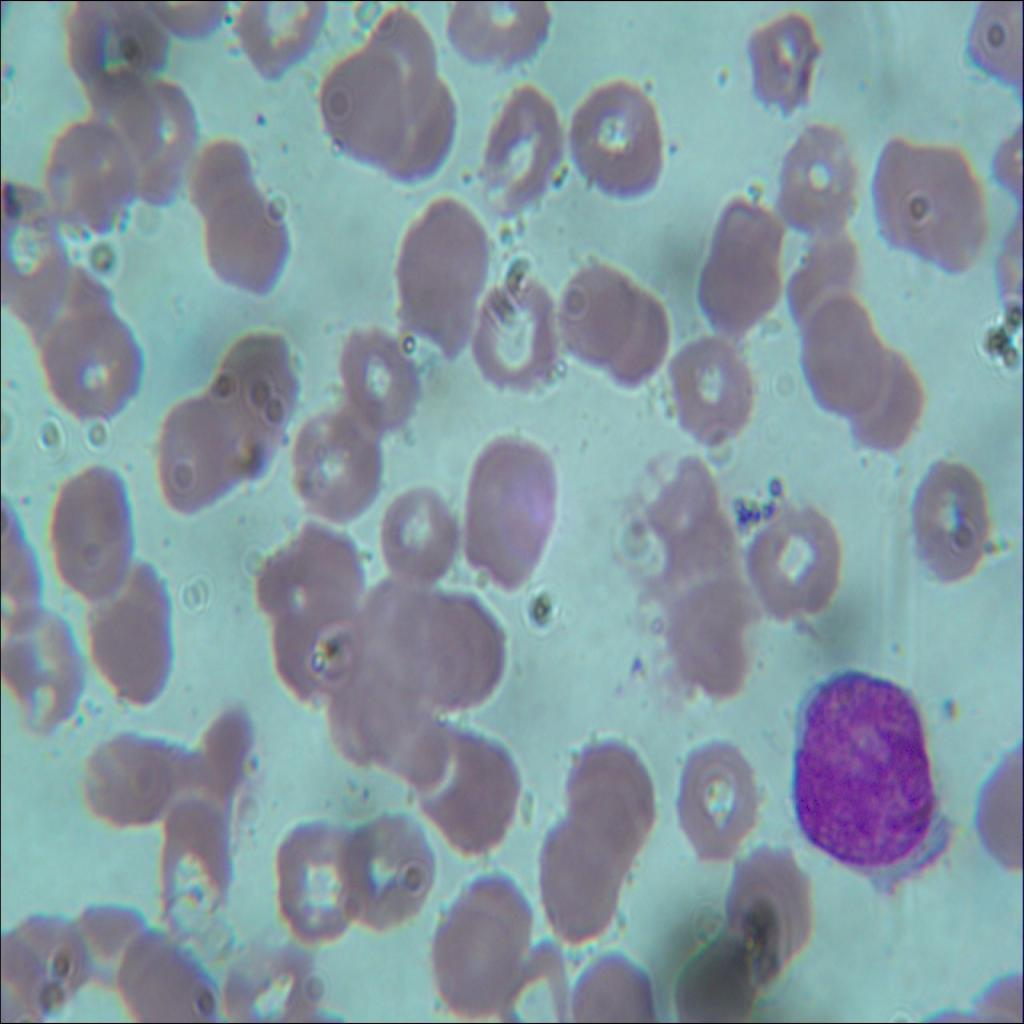Eritrosit: (446, 428, 556, 592), (868, 135, 986, 272), (82, 61, 198, 197), (432, 865, 530, 1023), (394, 194, 490, 340), (475, 75, 569, 224), (746, 494, 846, 627), (261, 592, 373, 707), (406, 588, 510, 710), (695, 195, 784, 332), (0, 600, 89, 735), (154, 398, 246, 528), (646, 458, 738, 586), (538, 811, 624, 947), (38, 314, 144, 424), (272, 815, 366, 939), (423, 729, 518, 851), (571, 79, 666, 200), (91, 567, 175, 702), (84, 724, 186, 835), (53, 465, 133, 605), (344, 805, 433, 930), (259, 527, 366, 628), (318, 51, 409, 169), (662, 577, 756, 690), (682, 722, 759, 859), (732, 838, 814, 966), (300, 405, 386, 527), (476, 268, 561, 391), (44, 121, 133, 238), (68, 0, 171, 101), (334, 319, 423, 435), (798, 291, 883, 412), (564, 735, 655, 848), (913, 458, 989, 592), (668, 337, 755, 452), (344, 672, 433, 784), (155, 794, 231, 922), (178, 702, 261, 817), (0, 181, 69, 319), (780, 115, 858, 235), (371, 472, 454, 584), (216, 329, 306, 432), (839, 345, 924, 452), (366, 584, 450, 692), (16, 264, 111, 358), (358, 12, 436, 122), (63, 904, 154, 998), (222, 939, 322, 1023), (124, 934, 218, 1023), (0, 914, 91, 1004), (214, 189, 291, 295), (790, 234, 864, 337), (746, 11, 819, 115), (558, 257, 630, 358), (601, 291, 670, 395), (446, 0, 551, 68), (678, 928, 753, 1023), (498, 924, 569, 1023), (184, 138, 251, 234), (398, 84, 456, 182)
Limfoblast: (792, 672, 938, 868)
Platelet: (226, 0, 318, 91), (250, 100, 272, 141), (940, 691, 958, 721), (660, 135, 682, 159), (632, 651, 646, 675)
